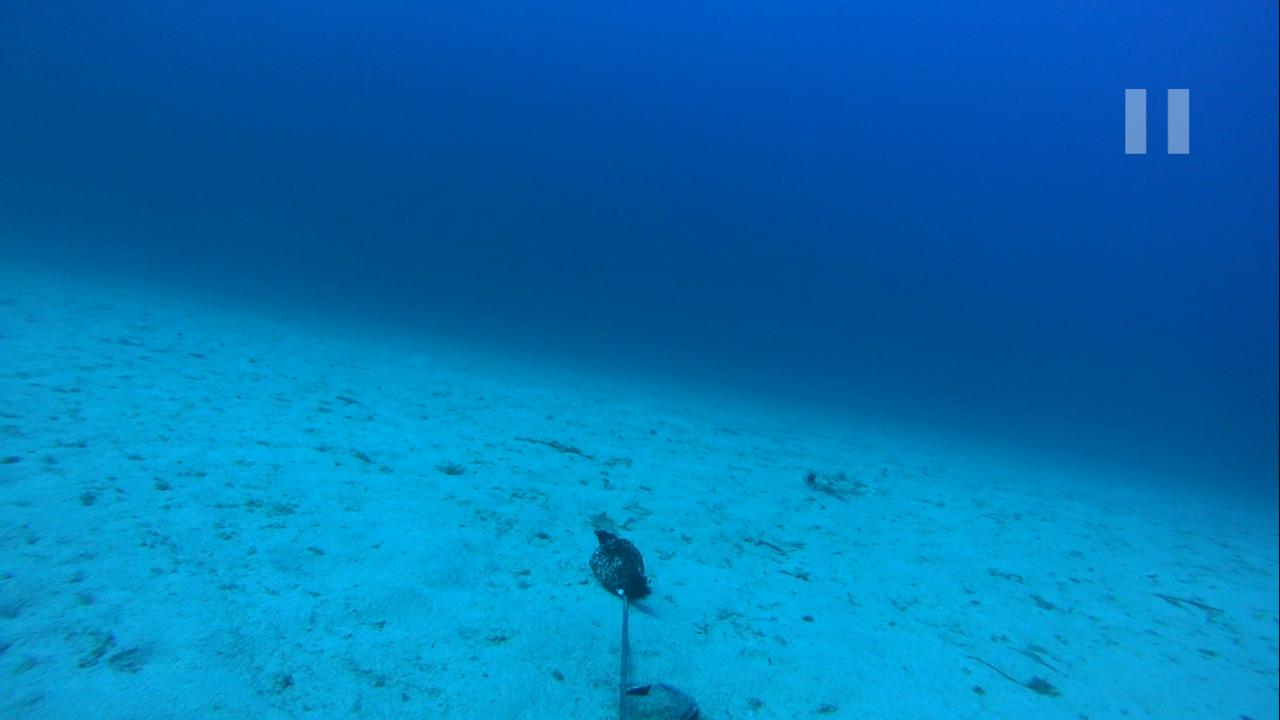dactylopterus: (794, 458, 872, 502)
